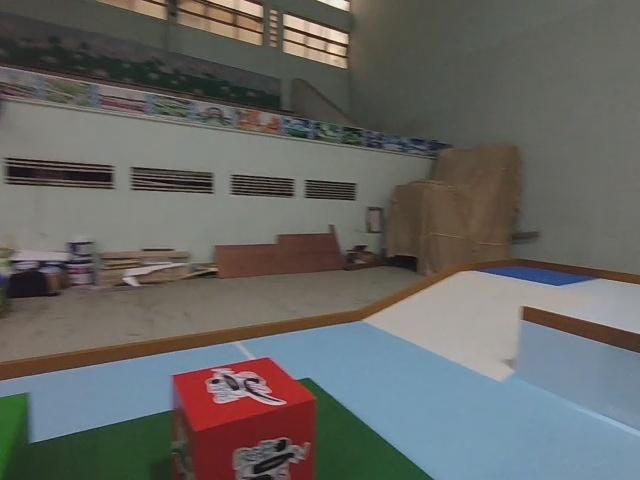R1: (168, 353, 318, 480)
